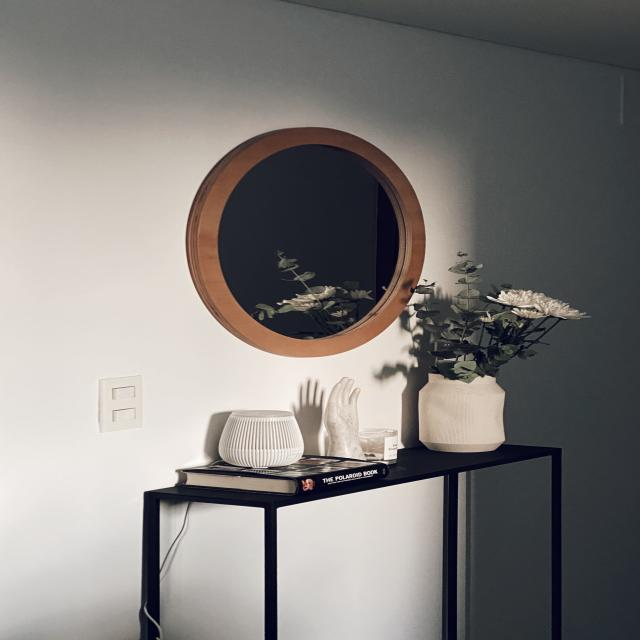Glass: (181, 136, 408, 328)
